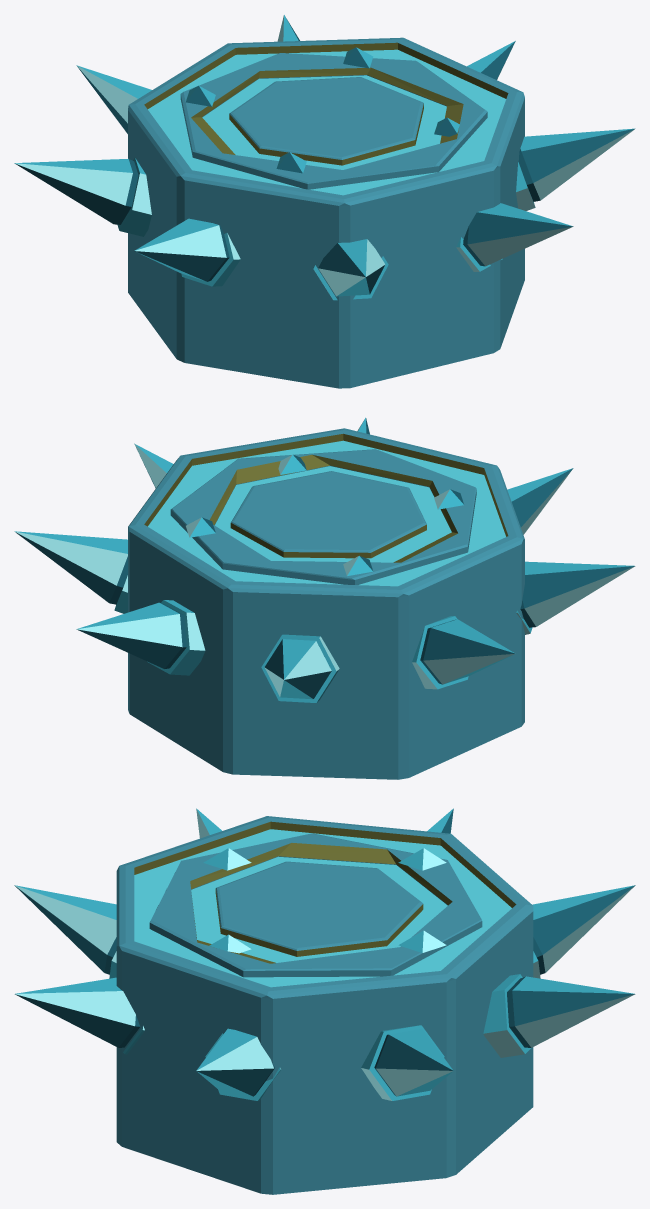
File: diamond_spike.fbx
3 views of the same model, one above another, from view 1: azimuth 30°, elevation 25°; view 2: azimuth 150°, elevation 25°; view 3: azimuth 270°, elevation 25° (orthographic). The views are drawn at different scales.
Visible parts, largest first — view 1: diamond_spike_body; view 2: diamond_spike_body; view 3: diamond_spike_body.
Part boxes in pixels (x1,y1,x2,y2): diamond_spike_body: (14,15,635,388); diamond_spike_body: (14,417,635,779); diamond_spike_body: (14,808,635,1194).
Size of the model in its own units: 5.64 by 2.15 by 5.64.
Materials: 1 (1 with a texture image).
